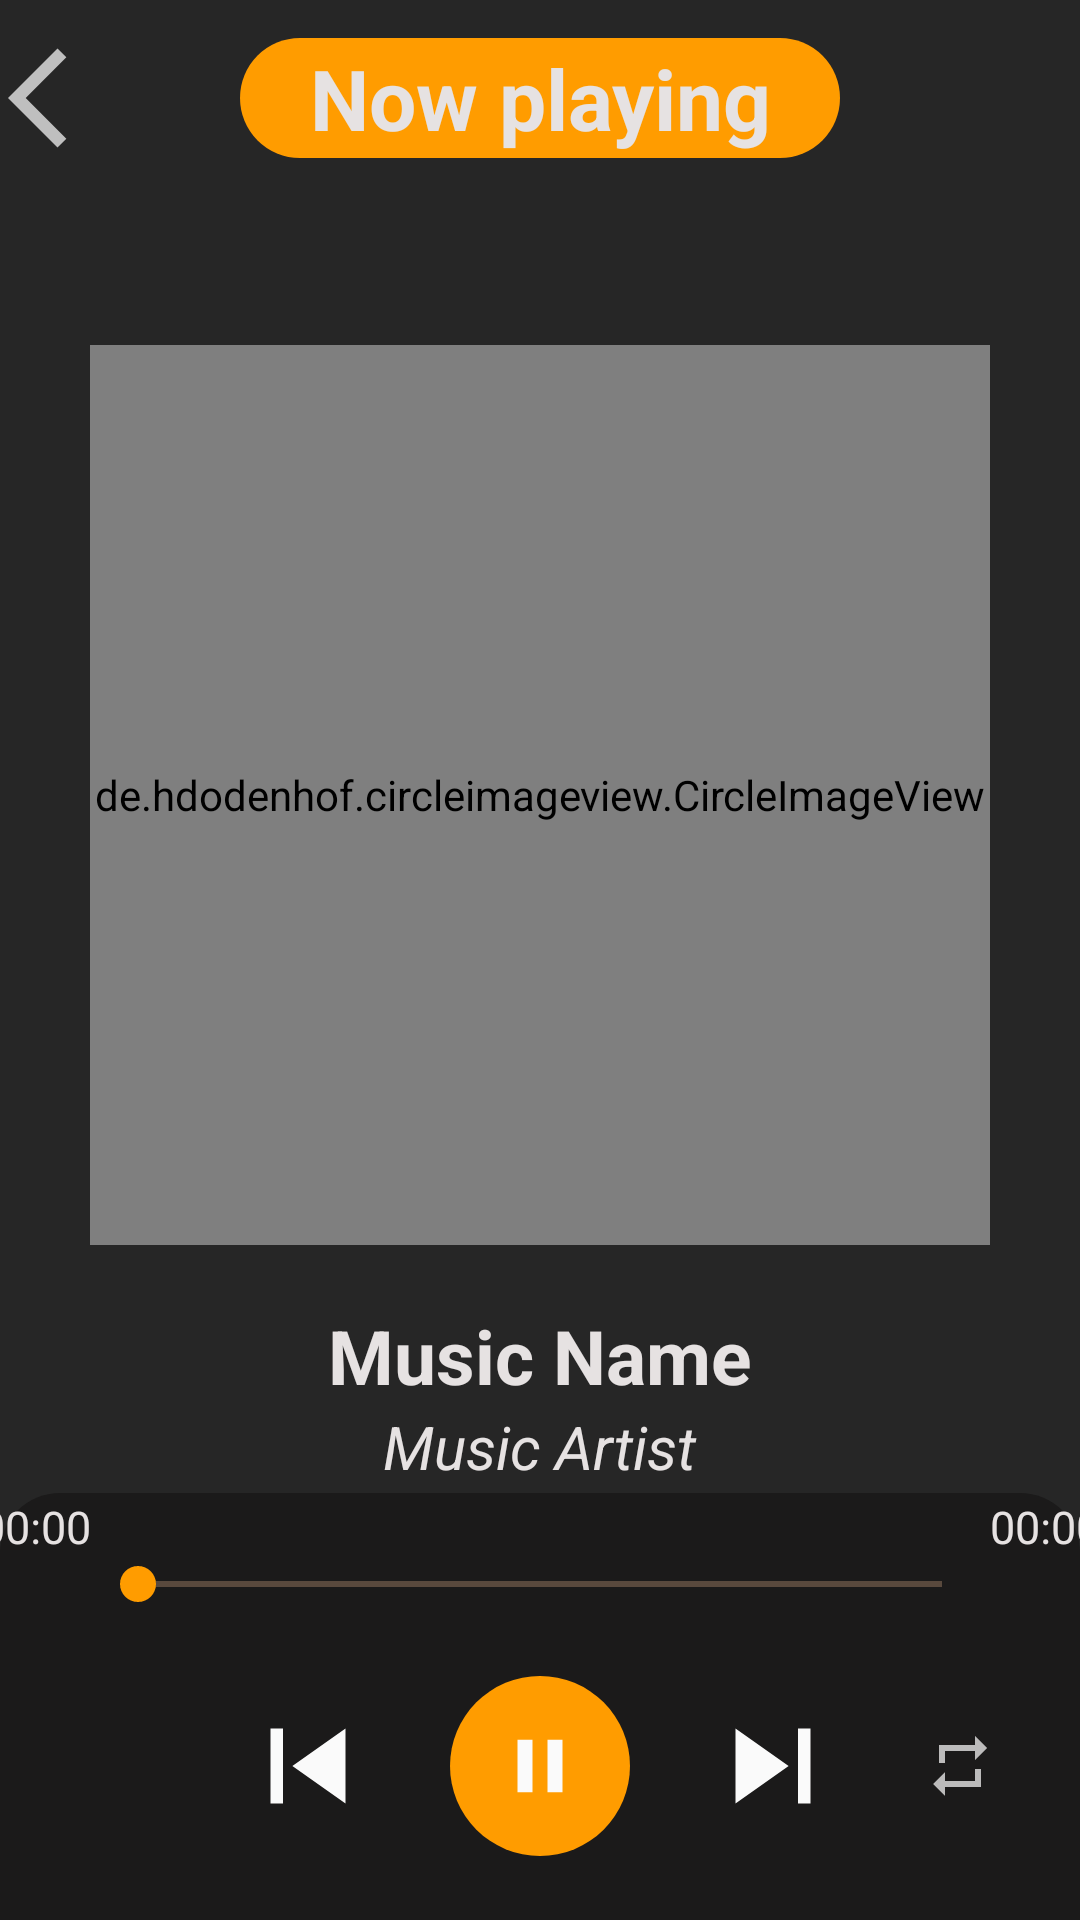

Locate icon controls on the screen. Image size 1080 × 1920, boxes as (x1,y1,x2,y2).
back: (8,48,66,148)
loop: (933,1736,987,1796)
next: (735,1728,811,1804)
pause: (450,1676,630,1856)
prev: (270,1728,346,1804)
